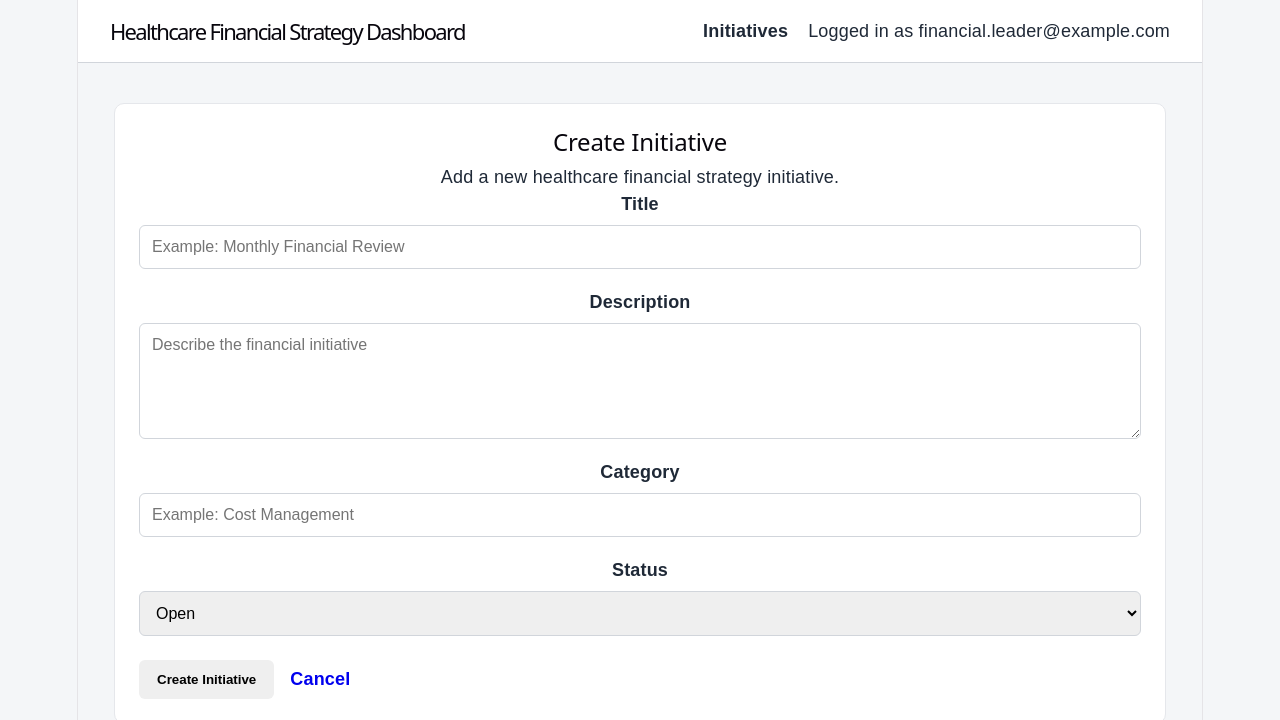
Test: Healthcare Financial Strategy Dashboard › shows validation when the create form is submitted without a title
What coordinates should you click on to do the following:
click the button "Create Initiative"
I would click on:
 (207, 679)
Its box is [139, 660, 274, 699].
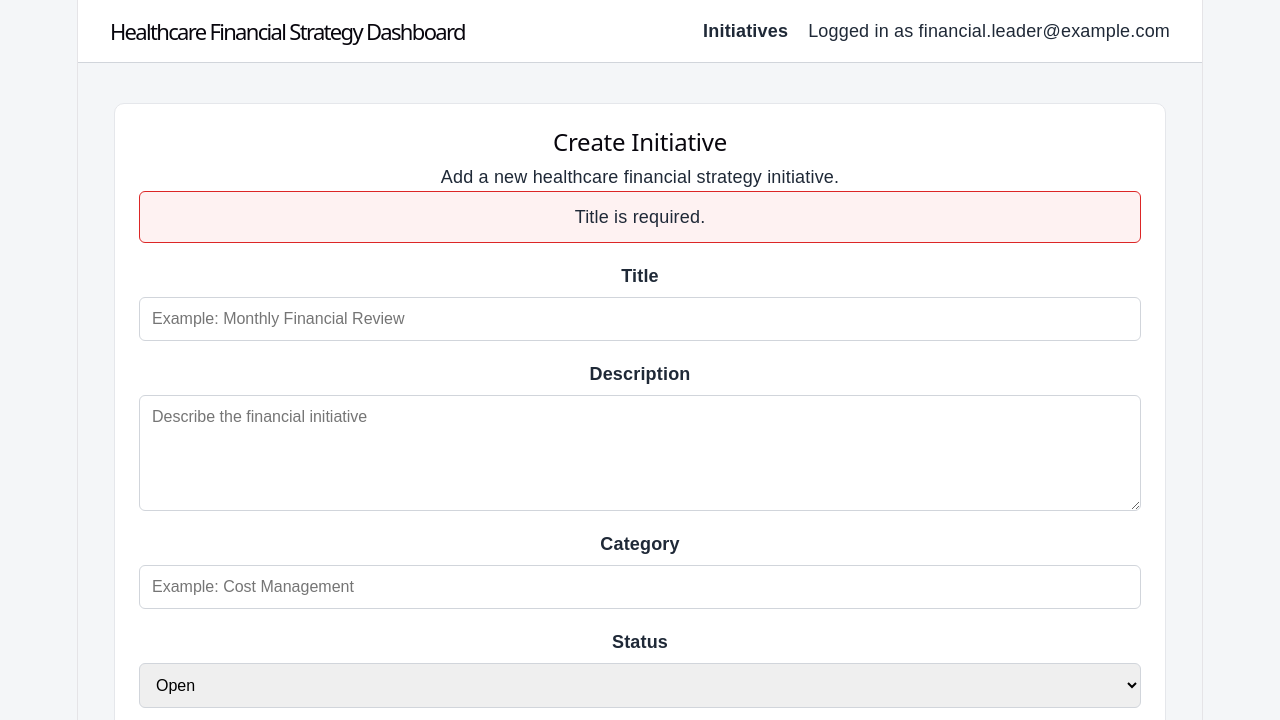
Expected: the text "Title is required." is shown, [139, 190, 1141, 243]
